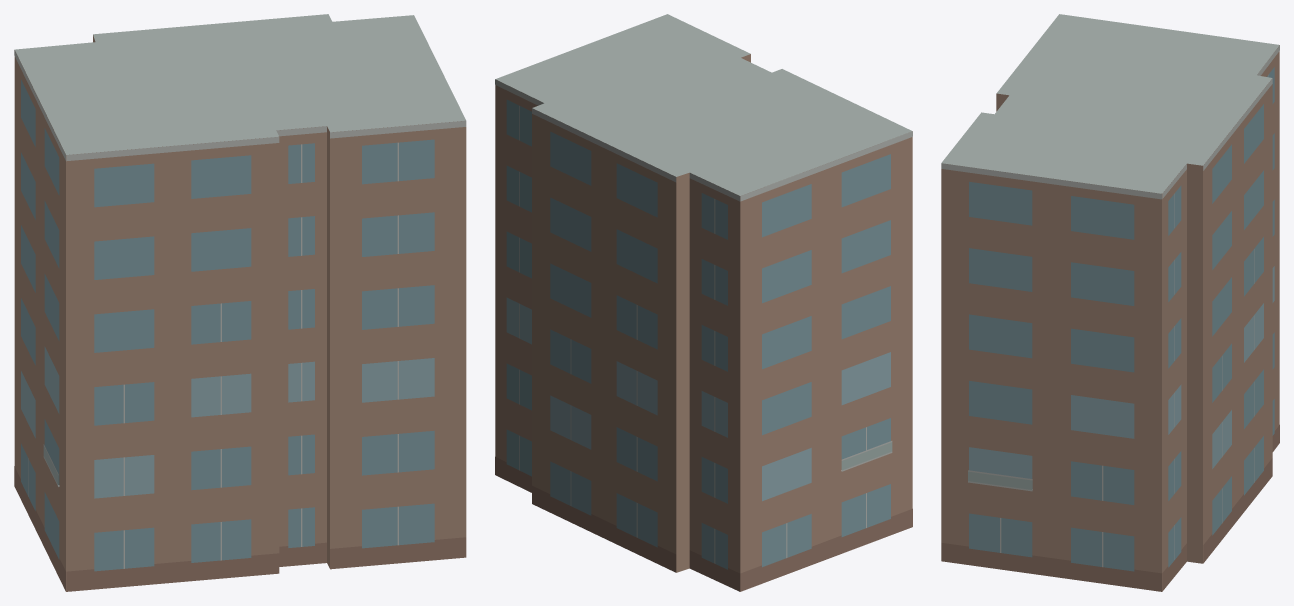
Rendered from survey-upis-32739840.glb.
3 renders of one model, left to right at view 1: azimuth 30°, elevation 25°; view 2: azimuth 150°, elevation 25°; view 3: azimuth 270°, elevation 25°, orthographic. The views are drawn at different scales.
Parts seen in each view (by area): view 1: survey-upis-32739840.tmp; view 2: survey-upis-32739840.tmp; view 3: survey-upis-32739840.tmp.
Part boxes in pixels (left/top/right/bottom): survey-upis-32739840.tmp: left=14, top=14, right=466, bottom=591; survey-upis-32739840.tmp: left=495, top=14, right=912, bottom=591; survey-upis-32739840.tmp: left=941, top=14, right=1279, bottom=591.
Size of the model in its own units: 16.67 by 17.2 by 13.27.
